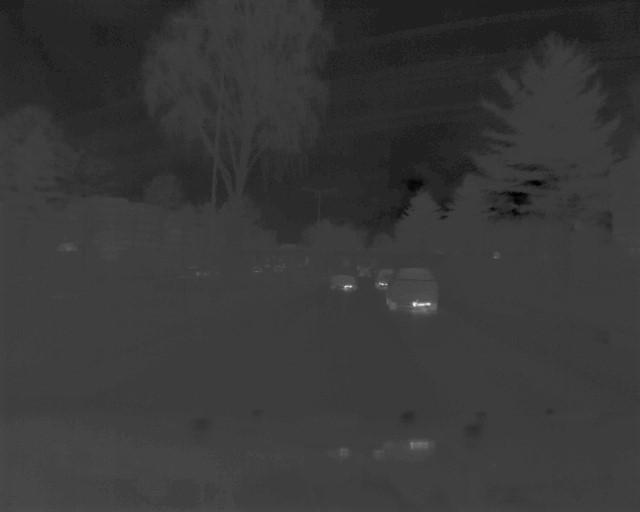car: (387, 266, 442, 318)
